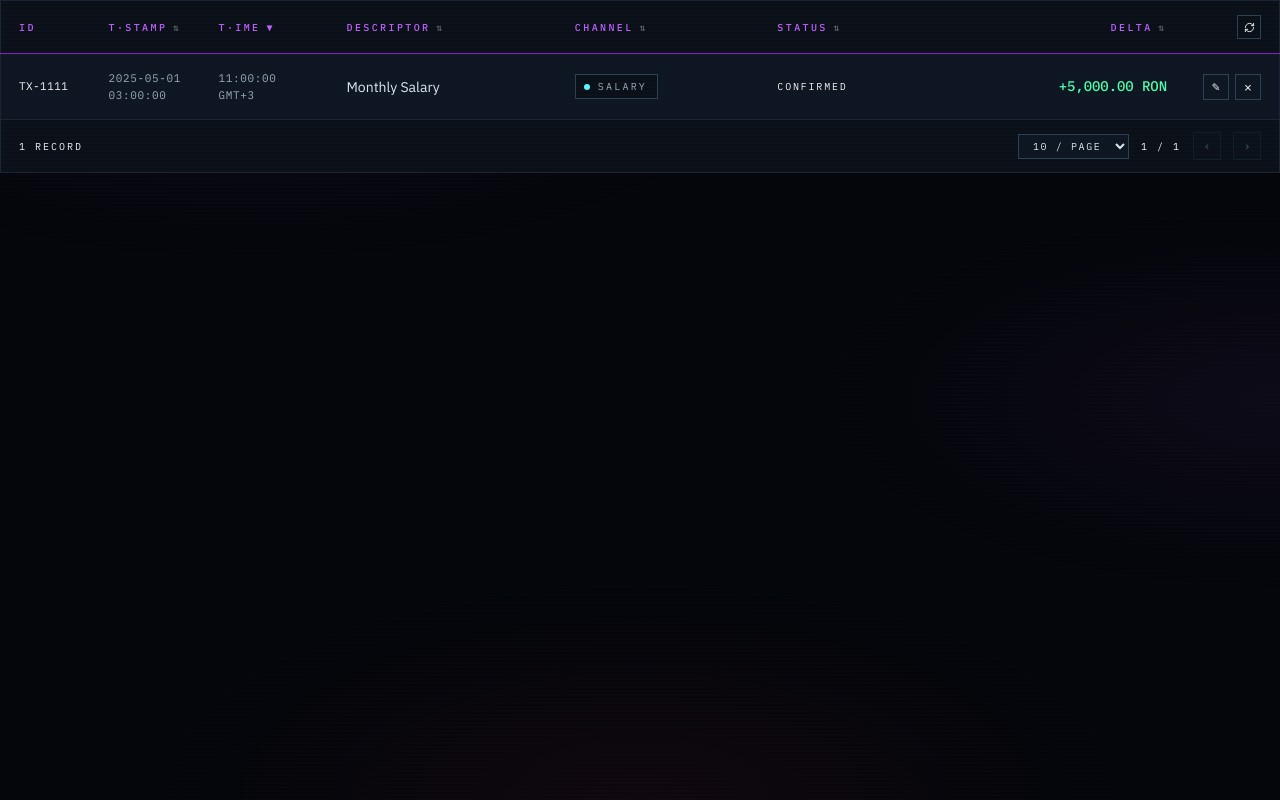
Test: TransactionsTable › edit button › hides edit dialog when Escape is pressed
Click the button "✎". click: (1216, 86)
box: [1203,74,1229,100]
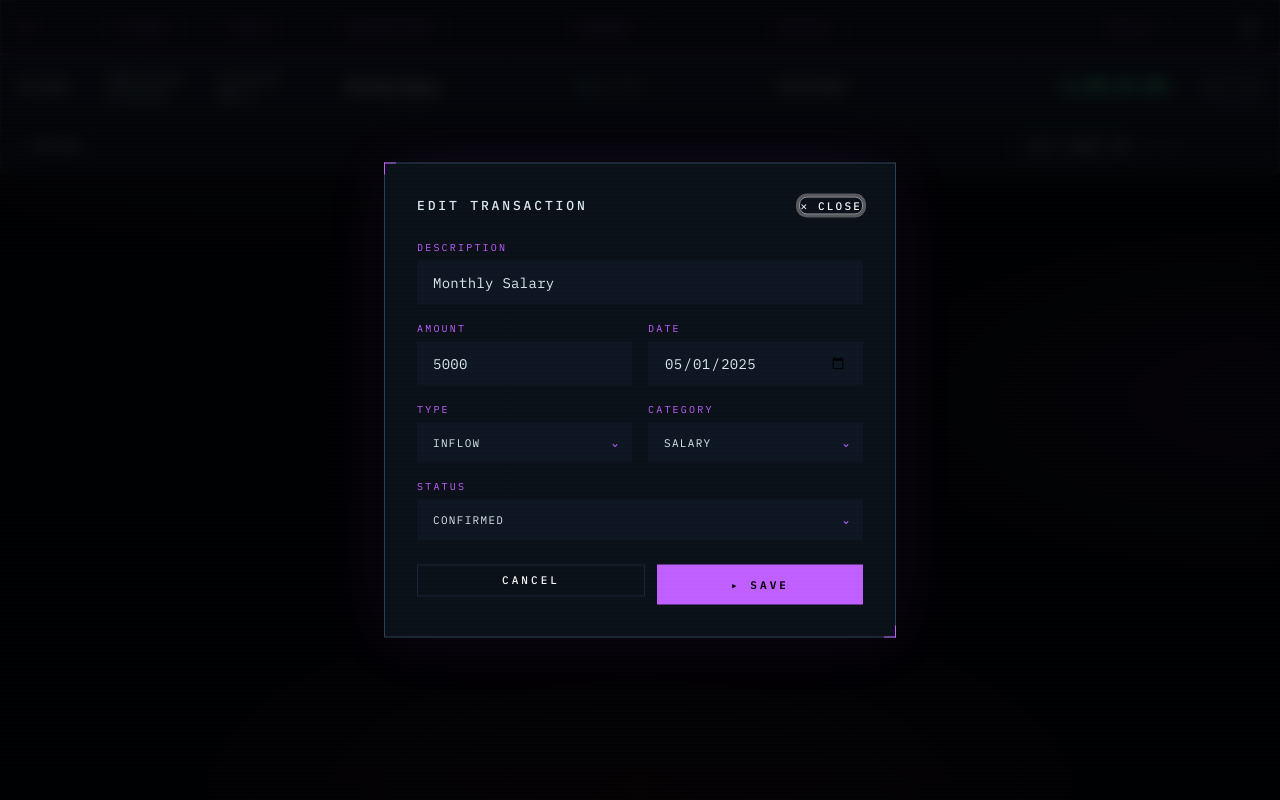
Expected: the heading "Edit Transaction" is shown, [417,196,588,215]
Press Escape
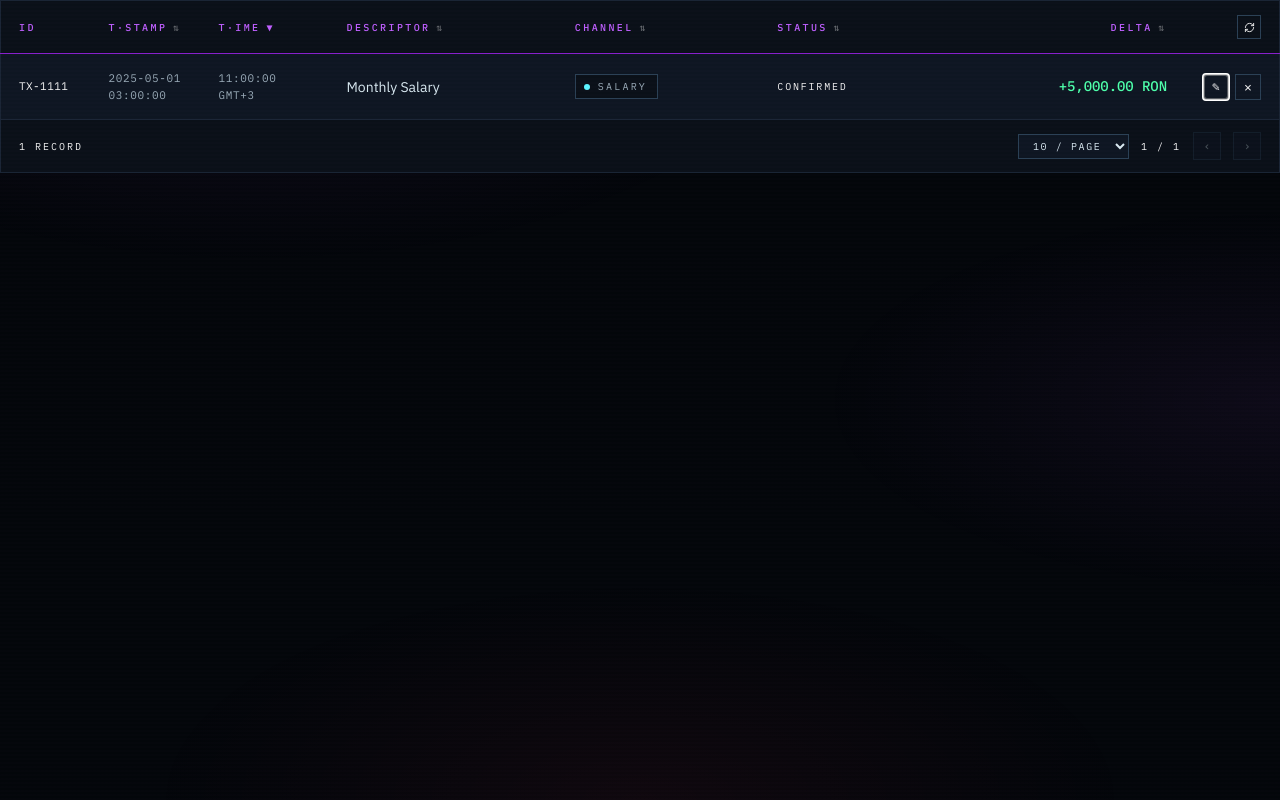
Expected: the heading "Edit Transaction" is gone
